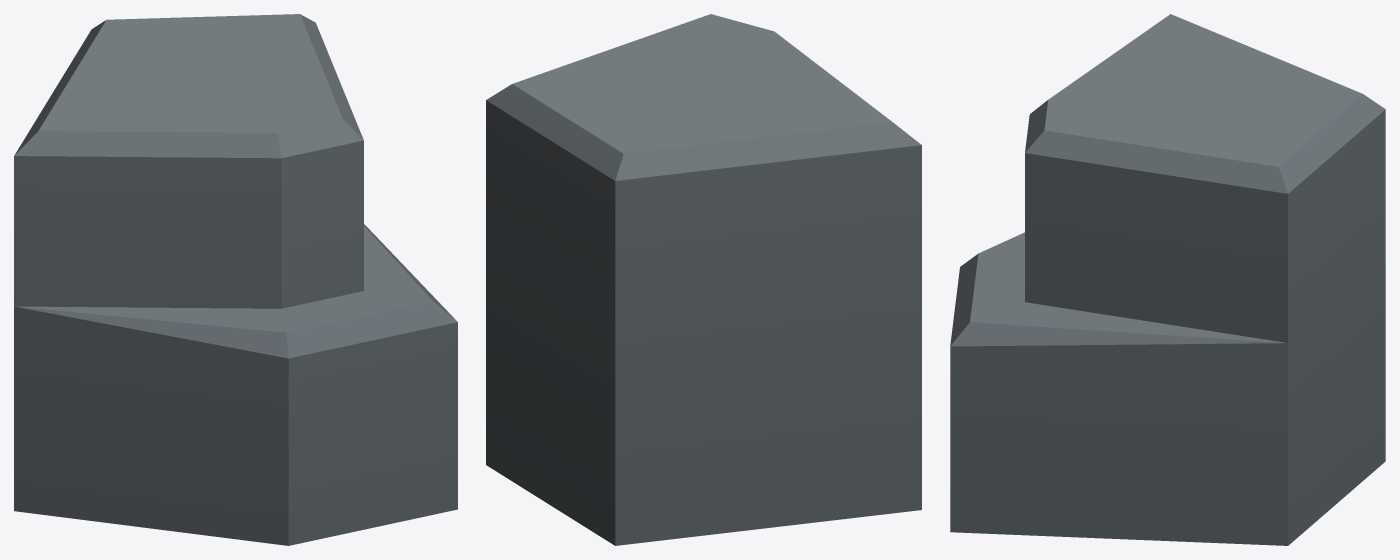
The model's file is kf_rock_1_b.fbx.
The picture shows the model from 3 angles, left to right: view 1: azimuth 30°, elevation 25°; view 2: azimuth 150°, elevation 25°; view 3: azimuth 270°, elevation 25°; orthographic projection. The views are drawn at different scales.
Parts seen in each view (by area): view 1: kf_rock_1_b; view 2: kf_rock_1_b; view 3: kf_rock_1_b.
Boxes of the visible parts, bbox=[...] form: kf_rock_1_b: bbox=[14, 14, 457, 545]; kf_rock_1_b: bbox=[486, 14, 921, 545]; kf_rock_1_b: bbox=[950, 14, 1385, 545].
Size of the model in its own units: 1.32 by 1.3 by 1.39.
1 material, 1 textured.
